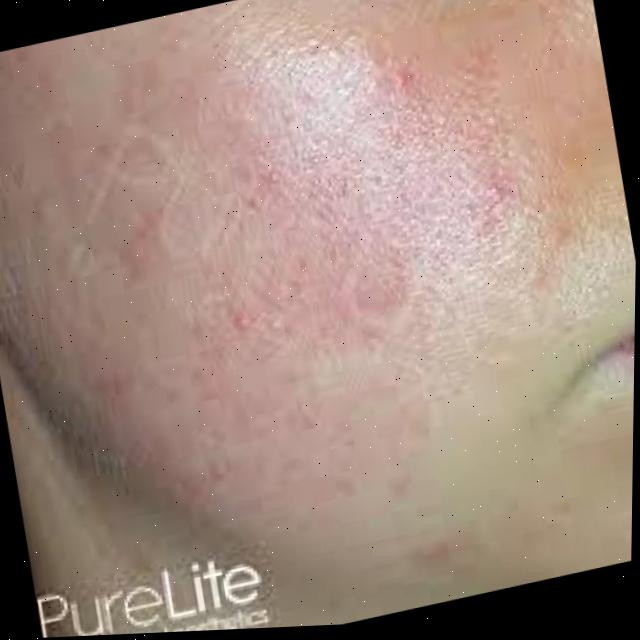Rosacea: (118, 1, 519, 432)
